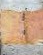Corrosion: (1, 7, 43, 45)
